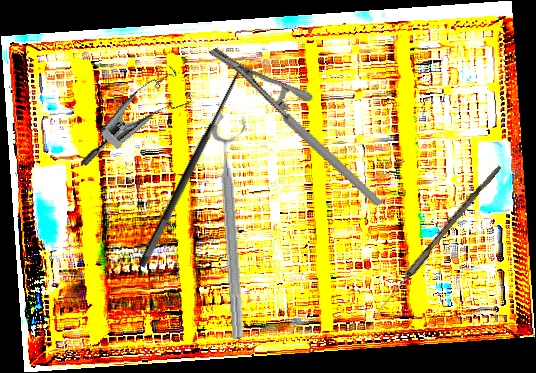Fixation Ring: (209, 111, 263, 340)
Hook Surgical: (121, 55, 250, 270)
Needle Holder: (208, 13, 383, 242)
Speculum: (80, 52, 201, 196)
Surgical Spoon: (372, 162, 502, 319)
